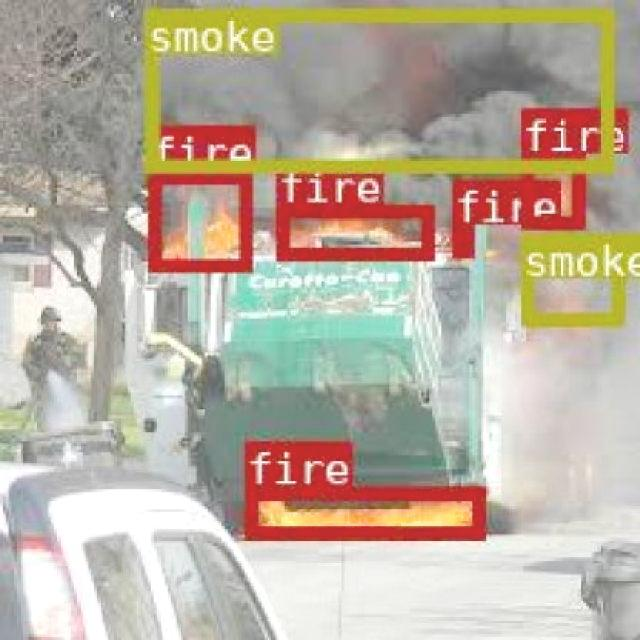fire: (243, 484, 482, 536), (145, 169, 250, 269), (273, 204, 430, 258), (518, 152, 582, 226), (450, 223, 472, 254)
smoke: (142, 6, 608, 169), (518, 232, 622, 322)
